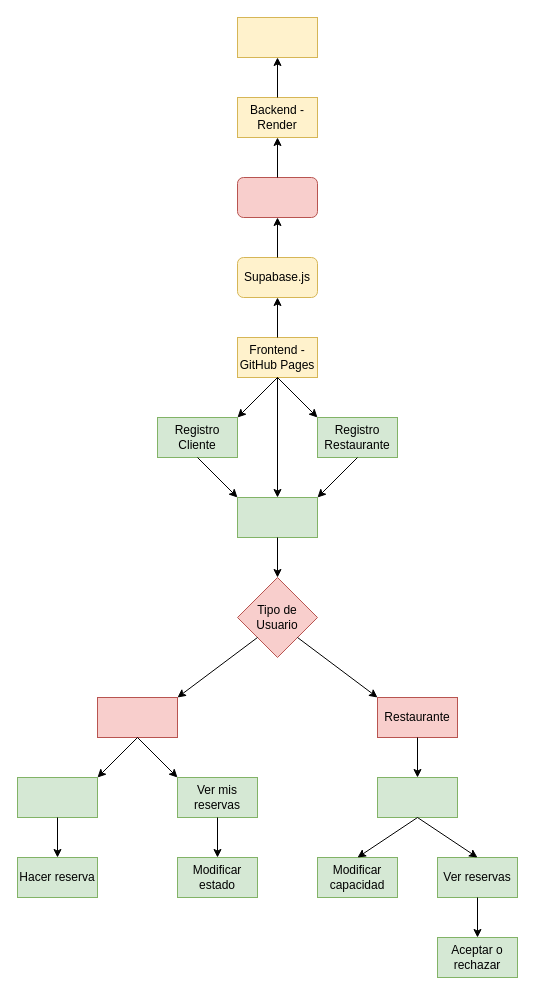
Some shapes in this 535 by 995 pixel diagram are drawn without their labels. Each missing label, with the box of its shape:
Base de datos - Supabase: (236, 16, 318, 58)
Cliente: (96, 696, 178, 738)
Login: (236, 496, 318, 538)
Panel de administración: (376, 776, 458, 818)
Server.js: (236, 176, 318, 218)
Ver restaurantes: (16, 776, 98, 818)
